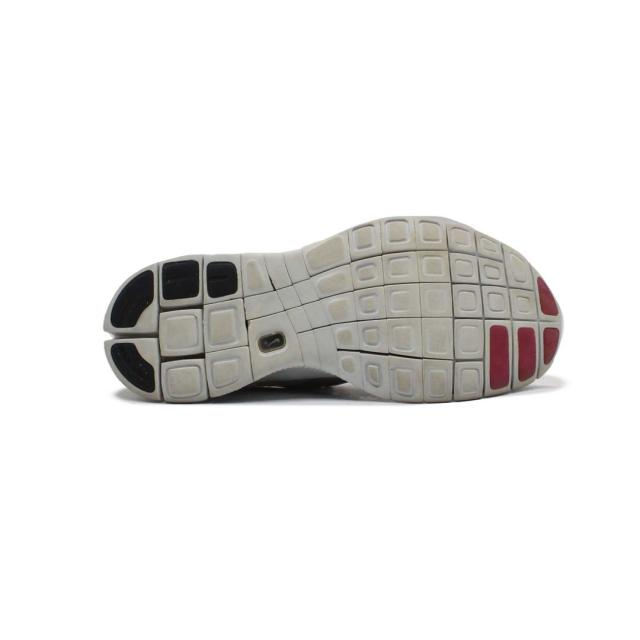outersole: (105, 212, 562, 396)
